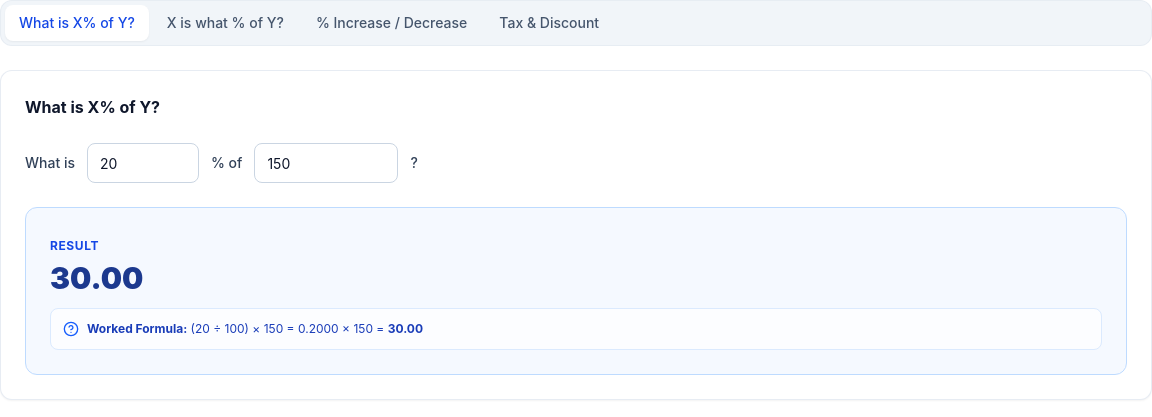
CALCULATOR TOOLS (4/4) › Percentage Calculator › switches tabs and calculates percentage ratios with division by zero protection
Switch to X is what % of Y tab
Click the tab "X is what % of Y?" at (225, 23), box [153, 5, 298, 41]
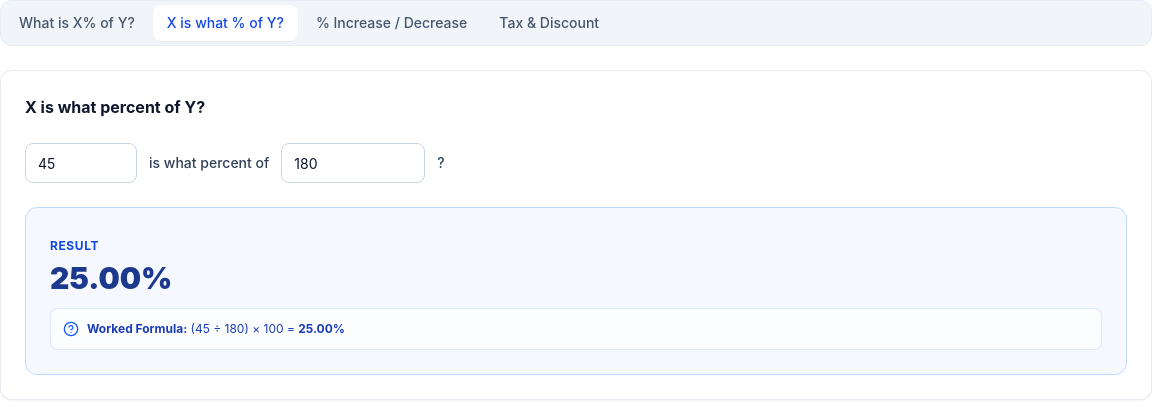
Now the text "25.00%" below "Result" is shown, box [50, 260, 172, 296]
Test divide by 0: set Y to 0
Replace the text in the number field named "Denominator Y" with "0" at (353, 163), box [281, 143, 425, 183]
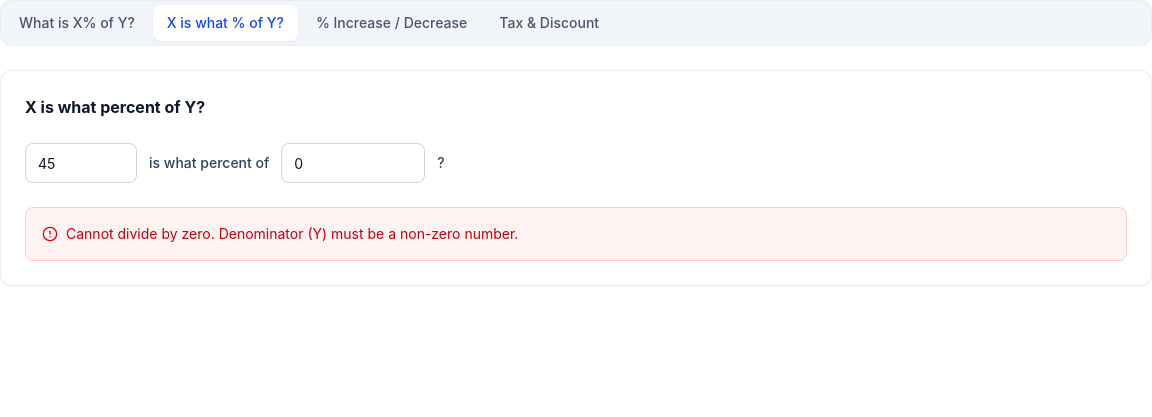
Now the text "Cannot divide by zero" is shown, box [66, 225, 518, 242]
